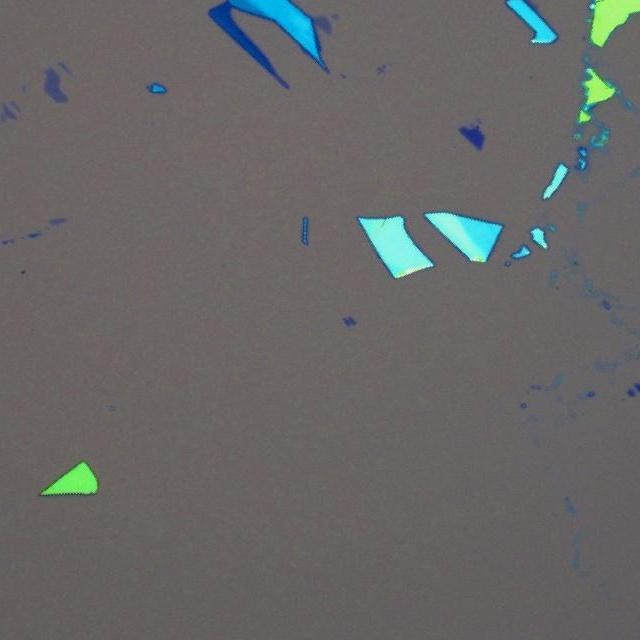monolayer-eWW4: (41, 64, 70, 105), (312, 15, 334, 36), (0, 102, 17, 120), (46, 217, 68, 225)
